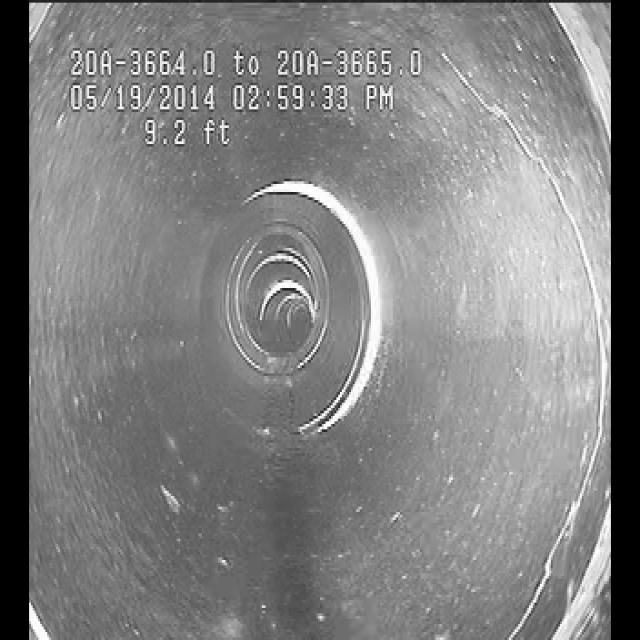Crack: (494, 71, 612, 628)
